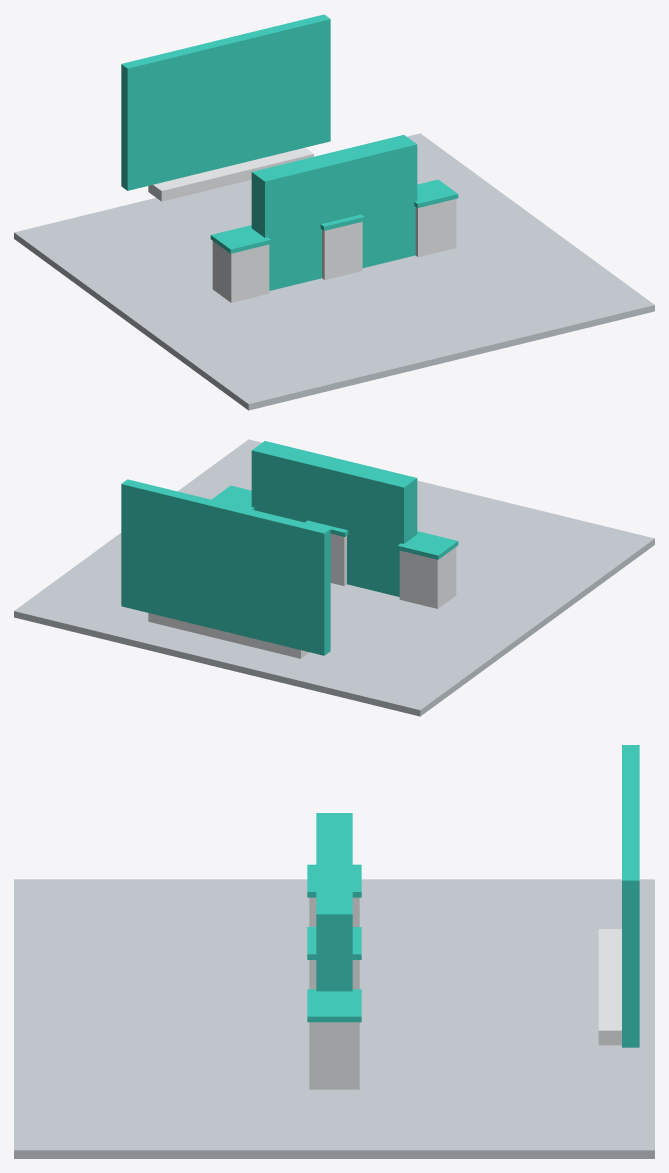
3 views of the same model, one above another, from view 1: azimuth 30°, elevation 25°; view 2: azimuth 150°, elevation 25°; view 3: azimuth 270°, elevation 25° (orthographic). The views are drawn at different scales.
Parts seen in each view (by area): view 1: Exhibition Booth Concept; view 2: Exhibition Booth Concept; view 3: Exhibition Booth Concept.
Part boxes in pixels (left/top/right/bottom): Exhibition Booth Concept: left=14, top=14, right=654, bottom=410; Exhibition Booth Concept: left=14, top=439, right=654, bottom=716; Exhibition Booth Concept: left=14, top=745, right=654, bottom=1158.
Size of the model in its own units: 8 by 2.9 by 8.
